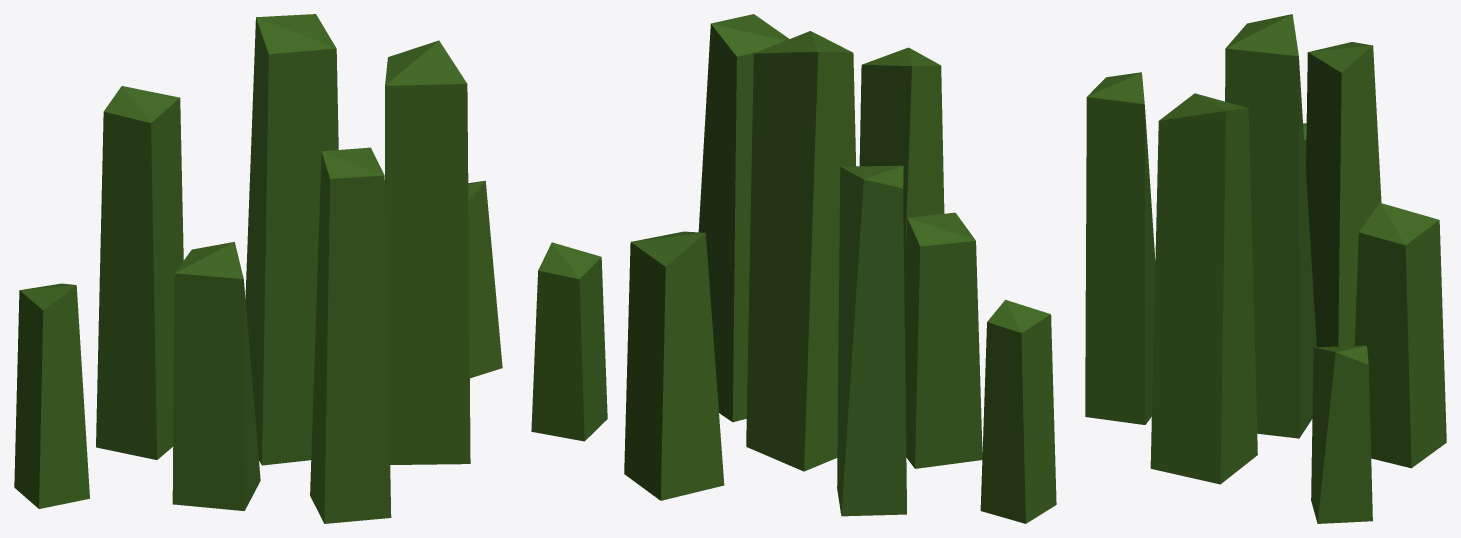
File: grass-2.glb
3 renders of one model, left to right at view 1: azimuth 30°, elevation 25°; view 2: azimuth 150°, elevation 25°; view 3: azimuth 270°, elevation 25°, orthographic. The views are drawn at different scales.
Parts seen in each view (by area): view 1: Grass_2; view 2: Grass_2; view 3: Grass_2.
Part boxes in pixels (x1,y1,x2,y2): Grass_2: (14, 14, 502, 523); Grass_2: (531, 14, 1056, 523); Grass_2: (1085, 14, 1446, 523).
Size of the model in its own units: 1.7 by 1.4 by 1.17.
